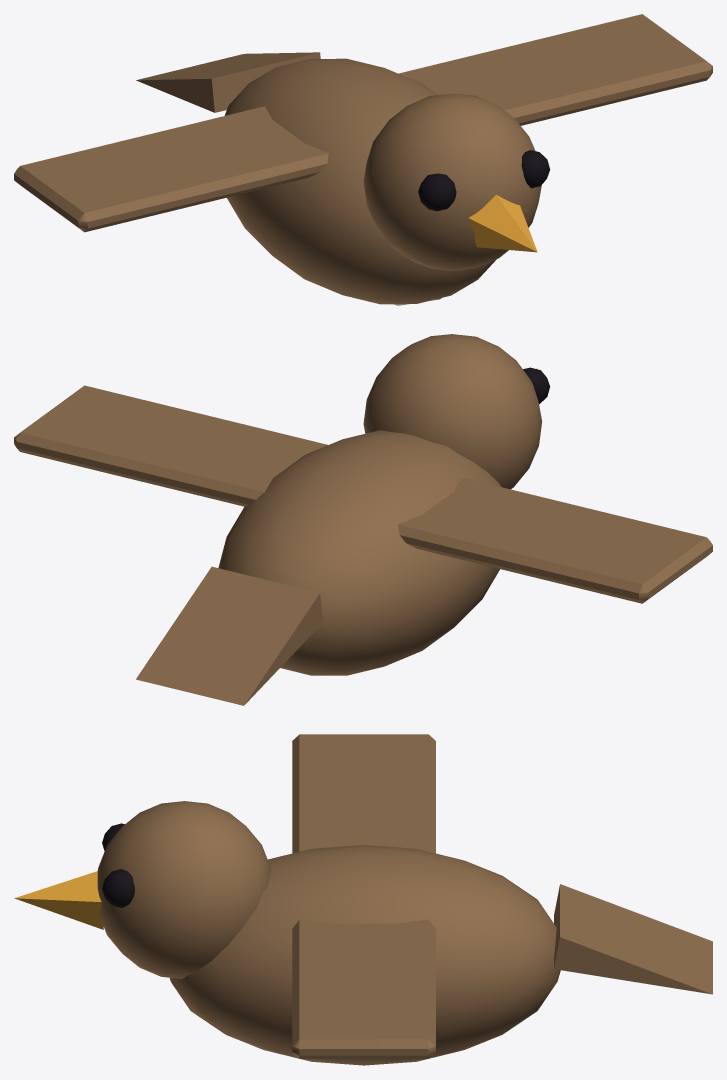
Rendered from bird_sparrow.glb.
3 renders of one model, top to bottom at view 1: azimuth 30°, elevation 25°; view 2: azimuth 150°, elevation 25°; view 3: azimuth 270°, elevation 25°, orthographic.
Visible parts, largest first — view 1: bird_sparrow, bird_sparrow.wingR, bird_sparrow.wingL; view 2: bird_sparrow, bird_sparrow.wingR, bird_sparrow.wingL; view 3: bird_sparrow, bird_sparrow.wingL, bird_sparrow.wingR.
Boxes of the visible parts, x1,y1,x2,y2 form: bird_sparrow: (136, 52, 550, 305); bird_sparrow.wingR: (14, 106, 328, 232); bird_sparrow.wingL: (398, 14, 712, 125); bird_sparrow: (136, 334, 550, 705); bird_sparrow.wingR: (398, 477, 712, 603); bird_sparrow.wingL: (14, 385, 327, 506); bird_sparrow: (14, 801, 712, 1065); bird_sparrow.wingL: (292, 919, 435, 1058); bird_sparrow.wingR: (292, 734, 435, 853).
Bounding box in the file's own units: 0.41 × 0.1495 × 0.3893.
